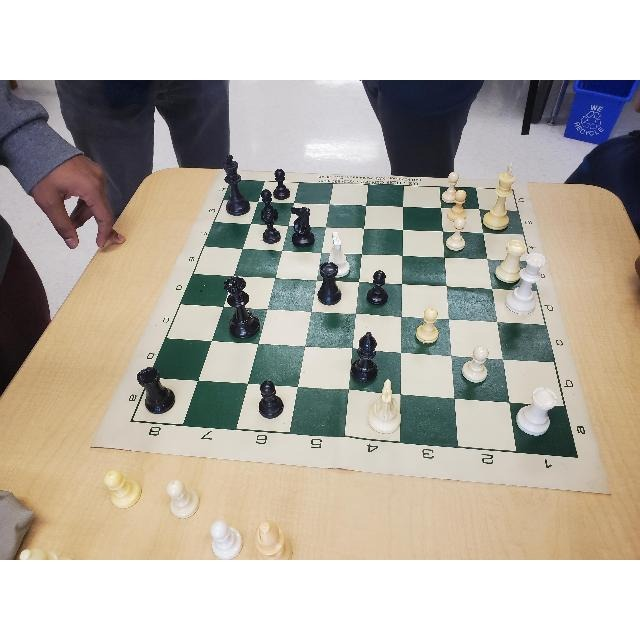black-bishop: (349, 330, 379, 384)
black-king: (222, 152, 252, 215)
black-knight: (291, 205, 314, 249)
black-pawn: (258, 380, 284, 418), (366, 268, 390, 307), (262, 210, 282, 244), (260, 189, 280, 223), (272, 167, 291, 201)
black-queen: (223, 277, 261, 339)
black-rook: (135, 367, 177, 413), (317, 261, 342, 307)
white-king: (482, 164, 513, 232)
white-knight: (368, 380, 402, 434), (325, 233, 351, 279)
white-pawn: (462, 344, 490, 383), (415, 306, 441, 345), (445, 186, 468, 224), (445, 215, 468, 253), (440, 170, 462, 204)
white-queen: (505, 252, 547, 313)
white-rook: (514, 388, 558, 436), (494, 240, 525, 282)
